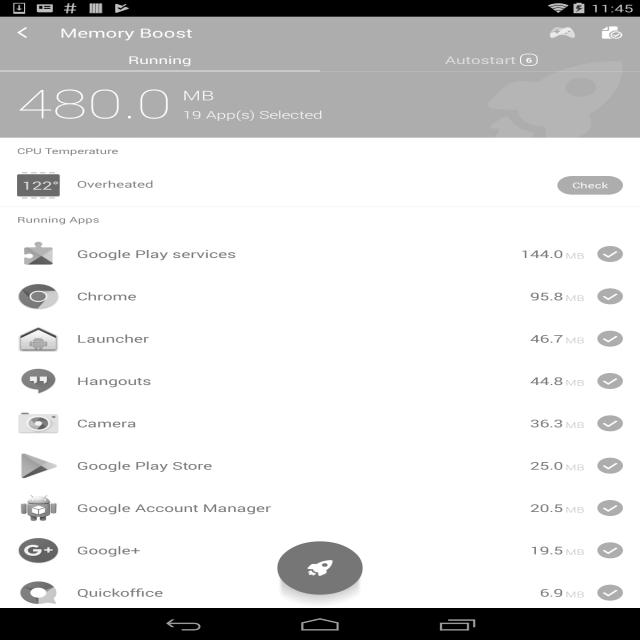CheckBox: (597, 275, 640, 318), (597, 317, 640, 360), (597, 402, 640, 445), (597, 444, 640, 487), (597, 529, 640, 572), (597, 571, 640, 614), (597, 233, 640, 275), (597, 360, 640, 402), (597, 487, 640, 529)
ImageView: (277, 541, 363, 595), (17, 172, 60, 199), (17, 283, 60, 310), (17, 325, 60, 352), (17, 410, 60, 437), (17, 452, 60, 479), (17, 537, 60, 564), (17, 579, 60, 606), (17, 241, 60, 267), (17, 368, 60, 394), (17, 495, 60, 521), (550, 27, 575, 38), (602, 26, 623, 39), (17, 27, 27, 38)
TextView: (17, 81, 172, 128), (17, 126, 640, 135), (60, 16, 193, 48), (77, 501, 271, 515), (77, 247, 237, 261), (77, 458, 213, 473), (182, 109, 323, 121), (77, 585, 163, 600), (557, 176, 623, 195), (77, 331, 149, 346), (77, 374, 151, 388), (17, 146, 118, 156), (444, 53, 516, 67), (76, 178, 154, 190), (17, 214, 100, 225), (77, 543, 140, 557), (128, 53, 191, 67), (77, 289, 136, 303), (77, 416, 136, 430), (18, 178, 59, 193), (521, 247, 563, 261), (182, 88, 215, 104), (530, 331, 563, 346), (530, 458, 563, 473), (530, 289, 563, 303), (530, 374, 563, 388), (530, 416, 563, 430), (530, 501, 563, 515), (530, 543, 563, 557), (540, 585, 563, 600), (566, 292, 584, 304), (566, 334, 584, 346), (566, 546, 584, 558), (566, 588, 584, 600), (520, 54, 538, 66), (566, 250, 584, 261), (566, 377, 584, 388), (566, 504, 584, 515), (566, 420, 584, 430), (566, 462, 584, 472)
